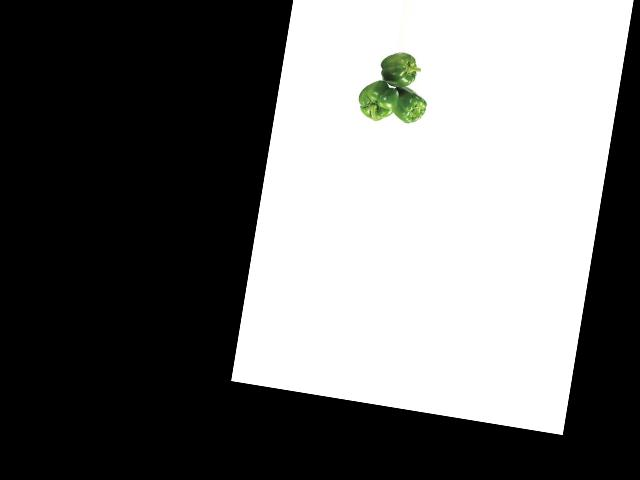bell_pepper: (351, 77, 401, 127)
